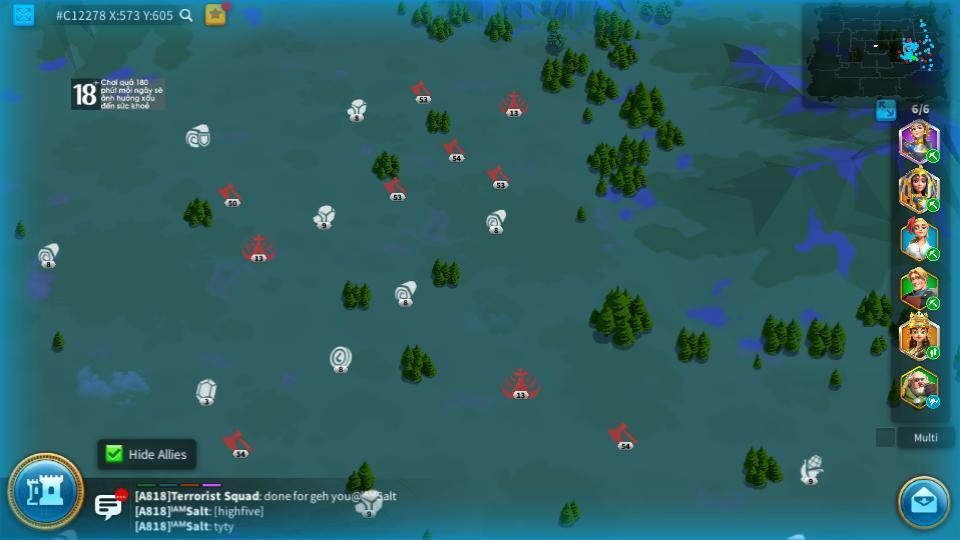gem-z-out: (194, 379, 217, 405)
march_farming: (924, 197, 939, 212), (924, 248, 939, 261), (925, 297, 941, 308)
march_idle: (925, 396, 942, 408)
march_marching: (925, 347, 941, 359), (925, 150, 941, 162)
